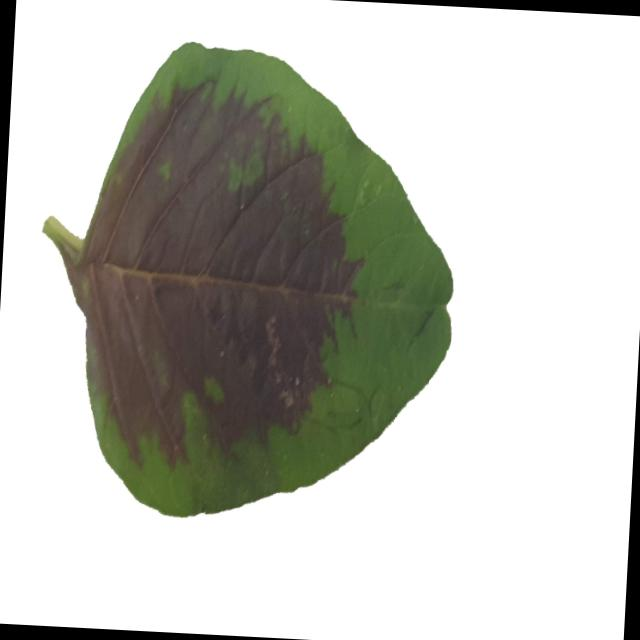Medicinal-Arive Dantu: (26, 32, 466, 535)
